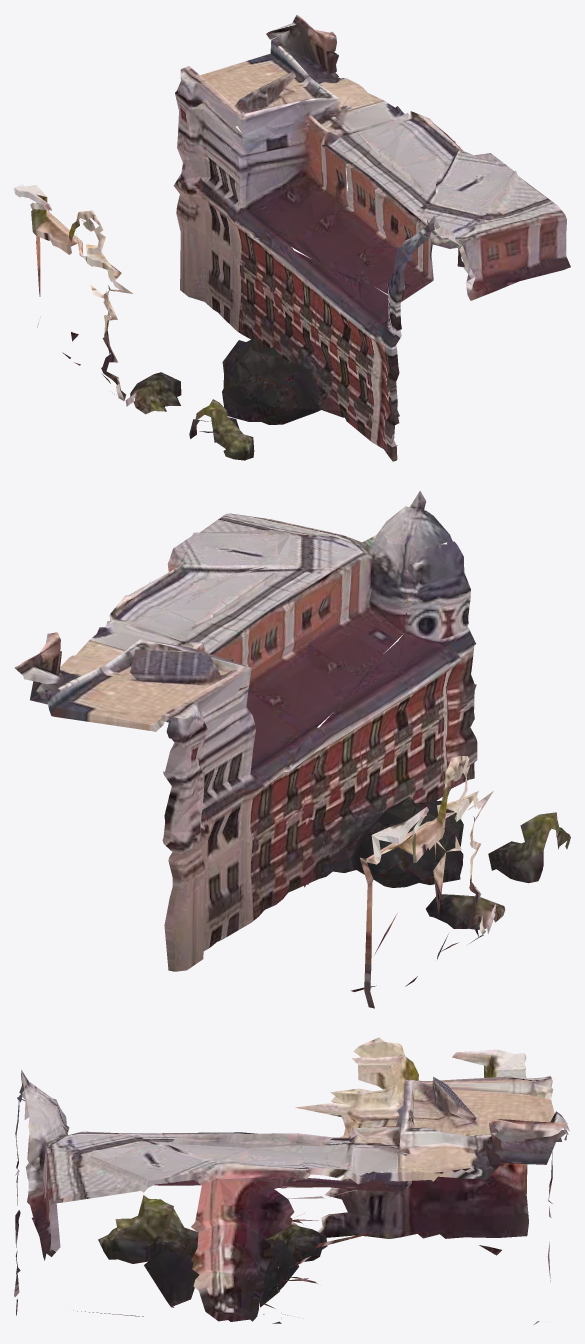
3 renders of one model, top to bottom at view 1: azimuth 30°, elevation 25°; view 2: azimuth 150°, elevation 25°; view 3: azimuth 270°, elevation 25°, orthographic. The views are drawn at different scales.
Parts seen in each view (by area): view 1: Mesh_0; view 2: Mesh_0; view 3: Mesh_0.
Part boxes in pixels (bbox=[...]): Mesh_0: bbox=[14, 15, 570, 461]; Mesh_0: bbox=[14, 491, 570, 1008]; Mesh_0: bbox=[14, 1037, 569, 1324].
Bounding box in the file's own units: 33.44 × 22.43 × 40.36.
2 materials, 2 textured.
